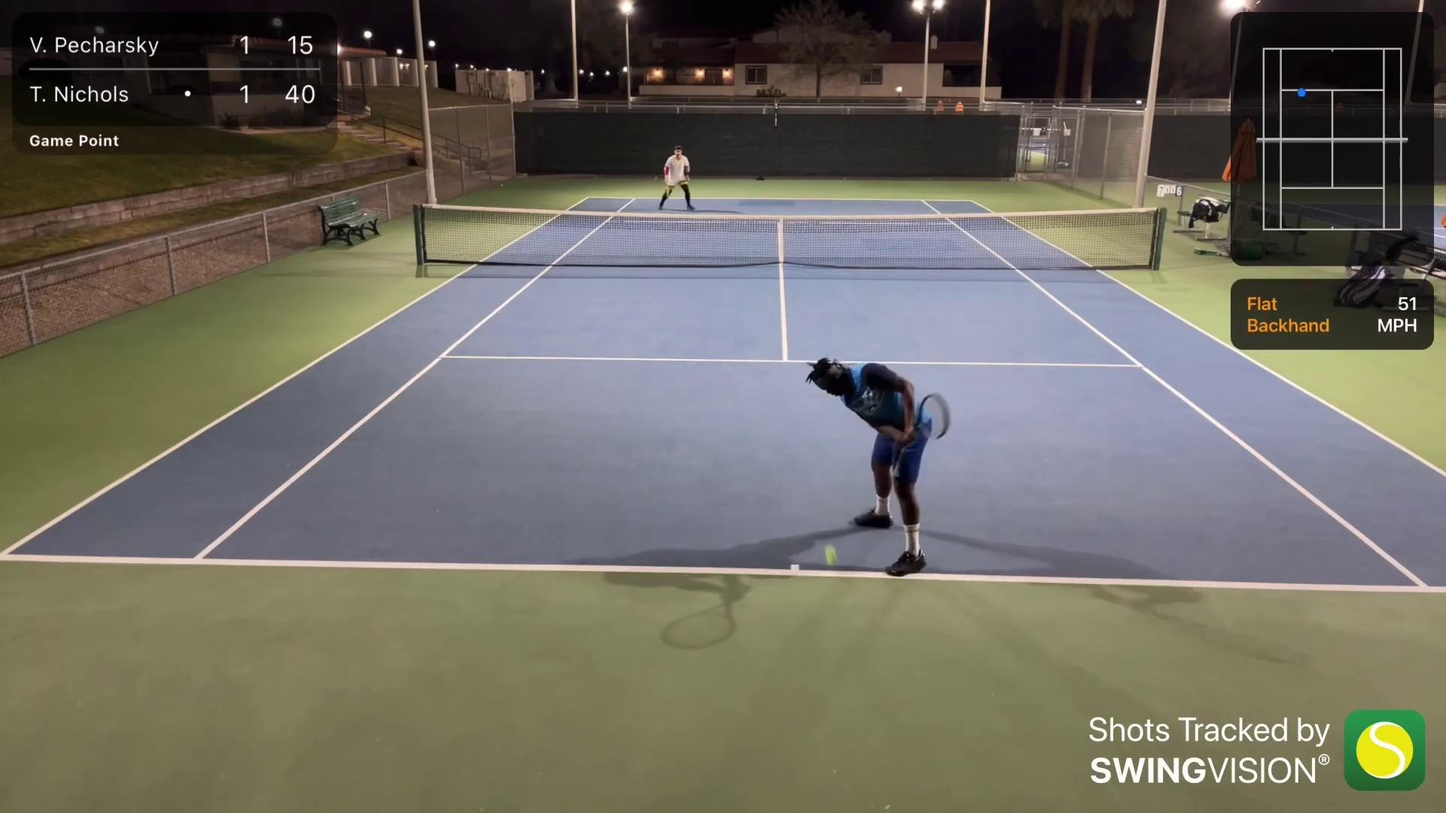ball: (821, 547, 841, 566)
